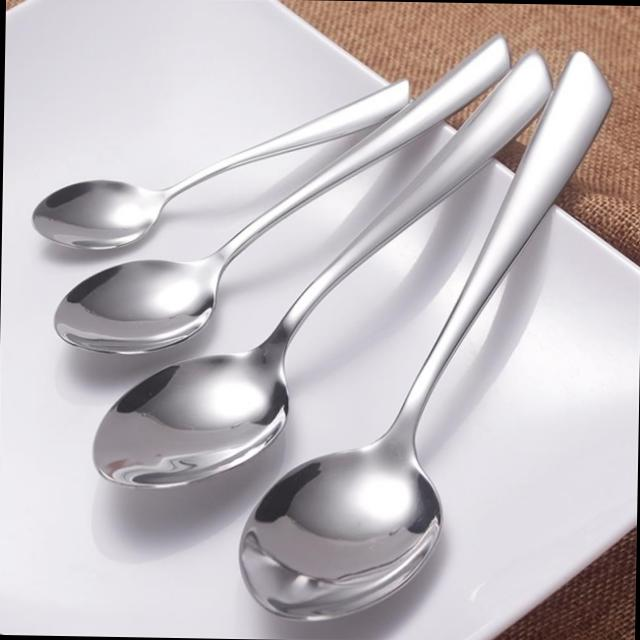spoon: (29, 71, 428, 262)
